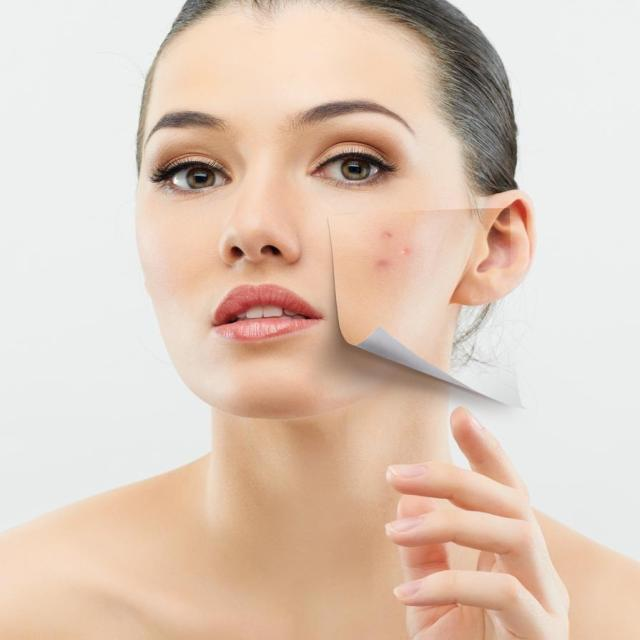acne: (364, 223, 423, 281)
